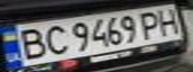4: (90, 16, 112, 48)
6: (106, 15, 127, 46)
9: (69, 19, 93, 52), (118, 12, 142, 44)
B: (12, 26, 51, 61)
C: (39, 22, 72, 56)
H: (154, 7, 184, 36)
P: (136, 9, 166, 39)
